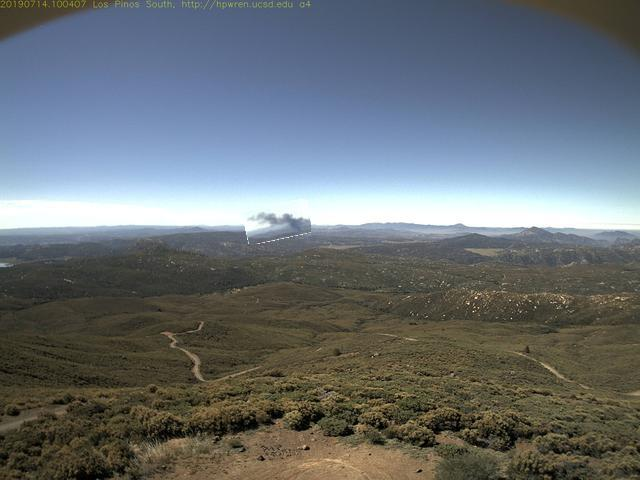smoke: (245, 203, 312, 243)
